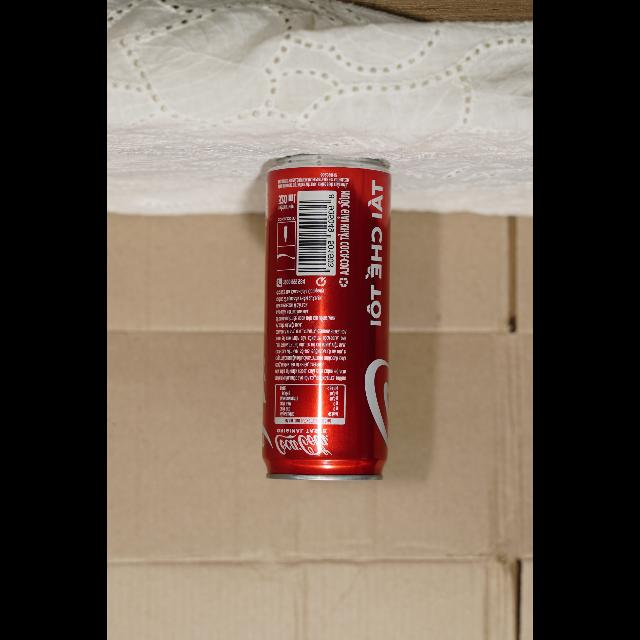coca_cola: (262, 154, 392, 482)
